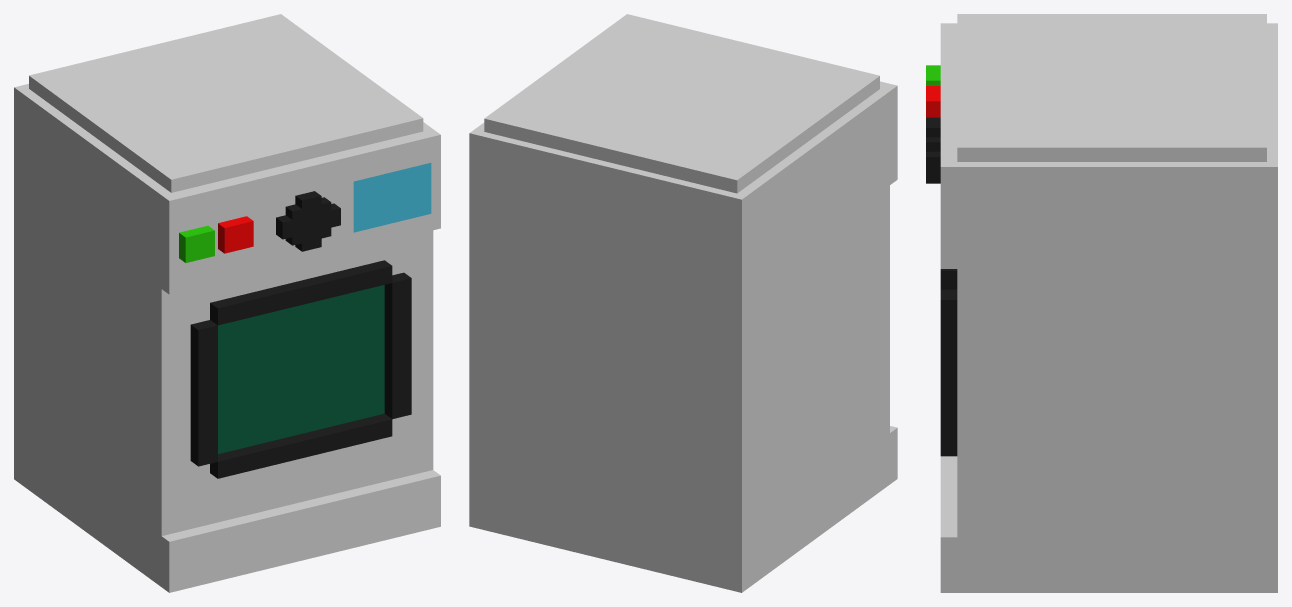
File: Washing Machine.fbx
3 renders of one model, left to right at view 1: azimuth 30°, elevation 25°; view 2: azimuth 150°, elevation 25°; view 3: azimuth 270°, elevation 25°, orthographic. The views are drawn at different scales.
Parts seen in each view (by area): view 1: Washing Machine; view 2: Washing Machine; view 3: Washing Machine.
Part boxes in pixels (x1,y1,x2,y2): Washing Machine: [14, 14, 440, 592]; Washing Machine: [469, 14, 897, 592]; Washing Machine: [926, 14, 1277, 592].
Size of the model in its own units: 0.5895 by 0.8405 by 0.609.
